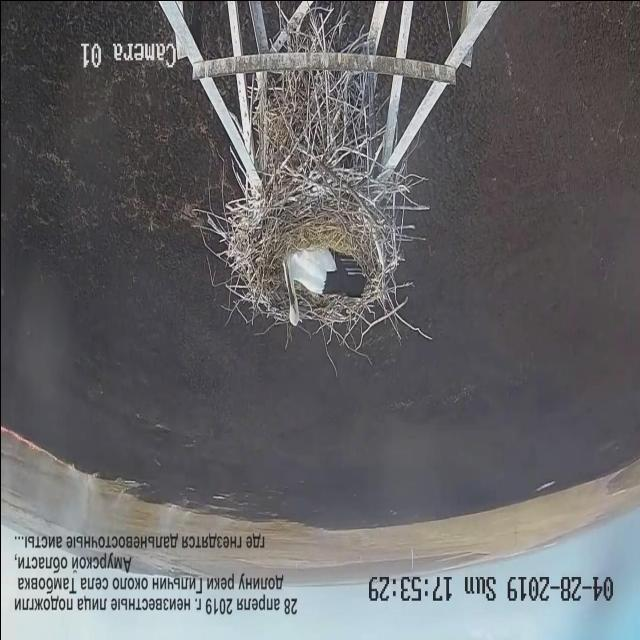Fire: (1, 428, 55, 460)
